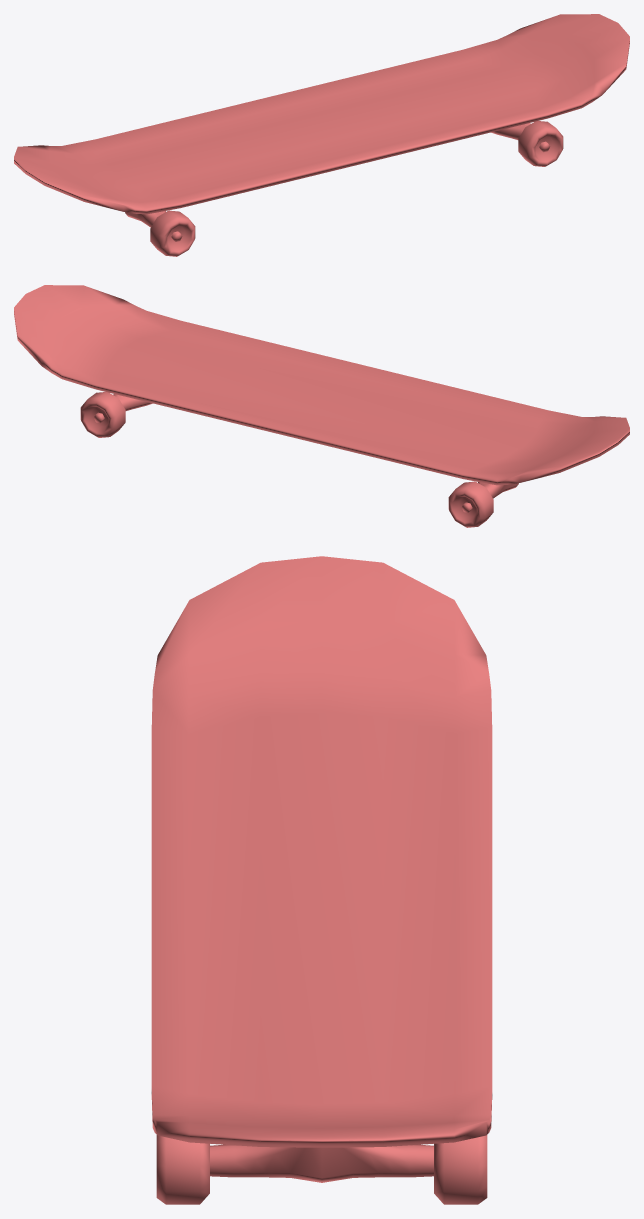
The model's file is SkateBoard_InGame.fbx.
The picture shows the model from 3 angles, top to bottom: view 1: azimuth 30°, elevation 25°; view 2: azimuth 150°, elevation 25°; view 3: azimuth 270°, elevation 25°; orthographic projection. The views are drawn at different scales.
Parts seen in each view (by area): view 1: SkateBoard_InGame; view 2: SkateBoard_InGame; view 3: SkateBoard_InGame.
Part boxes in pixels (x1,y1,x2,y2): SkateBoard_InGame: (14, 14, 629, 256); SkateBoard_InGame: (14, 285, 629, 527); SkateBoard_InGame: (151, 556, 492, 1204).
Bounding box in the file's own units: 3.63 × 0.5159 × 0.9025.
